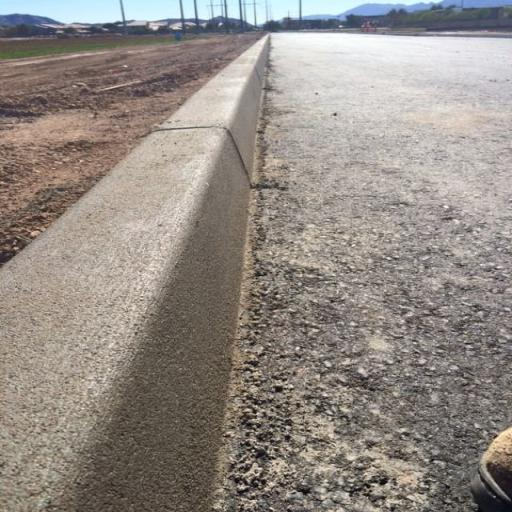glass_wall: (216, 33, 512, 512)
